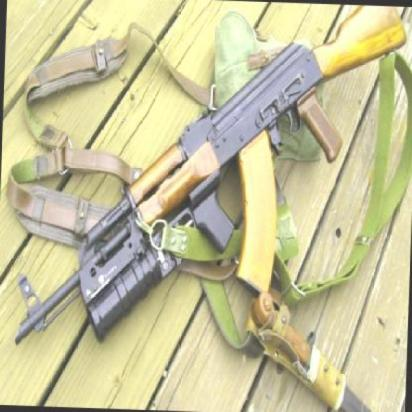Gun: (11, 0, 366, 377)
